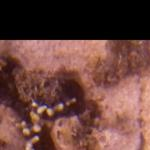dead: (1, 39, 149, 148)
